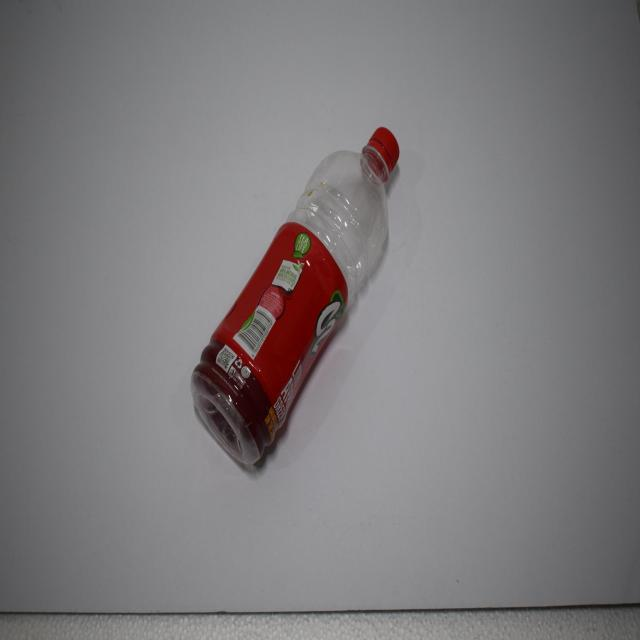bottle: (184, 123, 401, 482)
